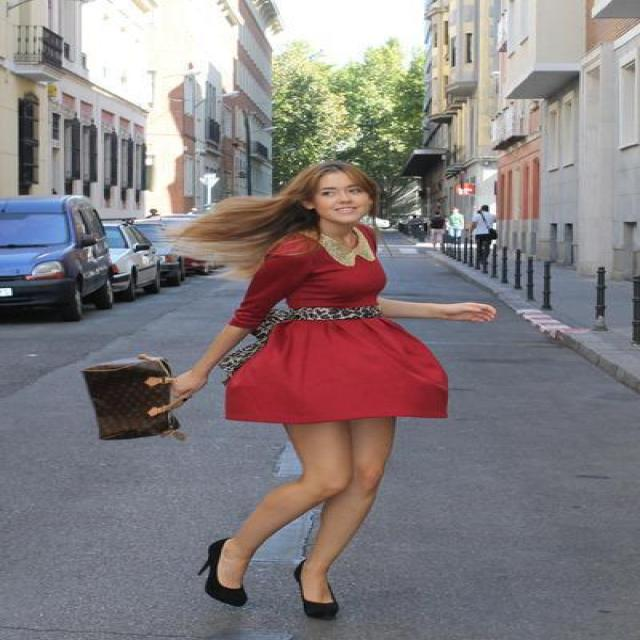bag: (82, 366, 179, 439)
dress: (223, 230, 447, 438)
shoe: (198, 538, 338, 620)
